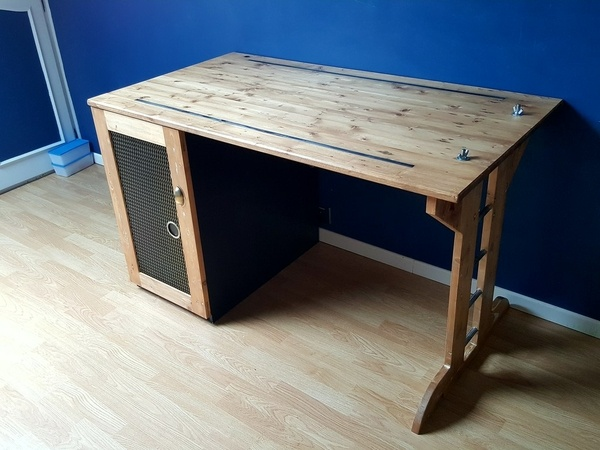Table: (236, 277, 459, 346)
